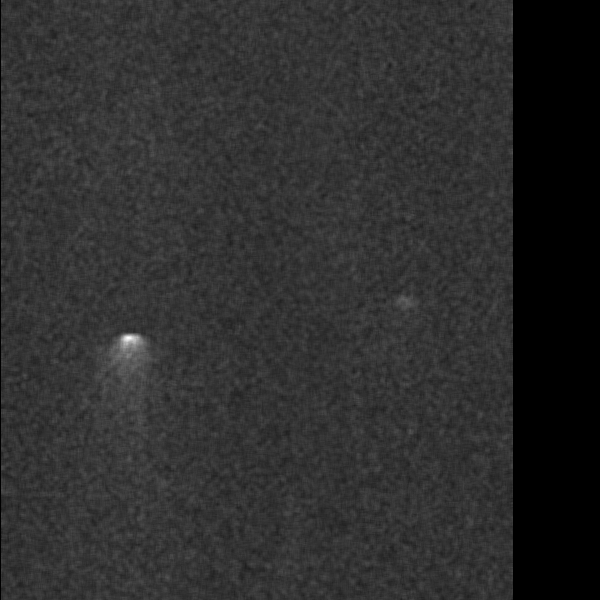spark: (266, 350, 313, 392)
